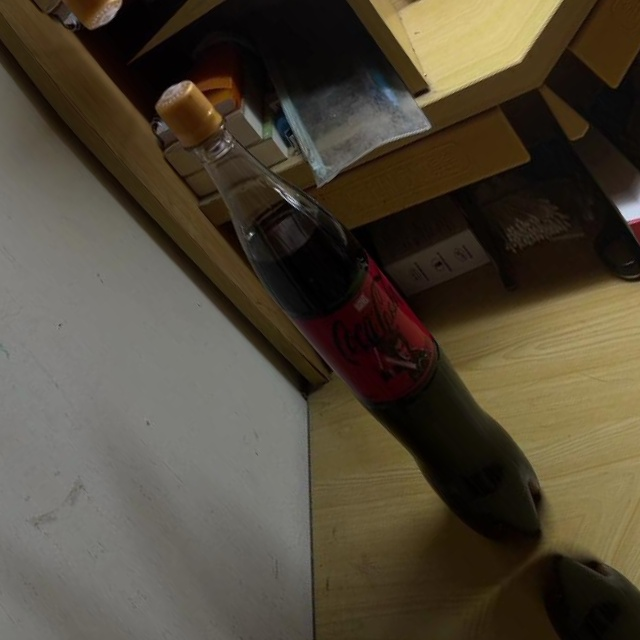Coca-Cola: (124, 60, 575, 569)
